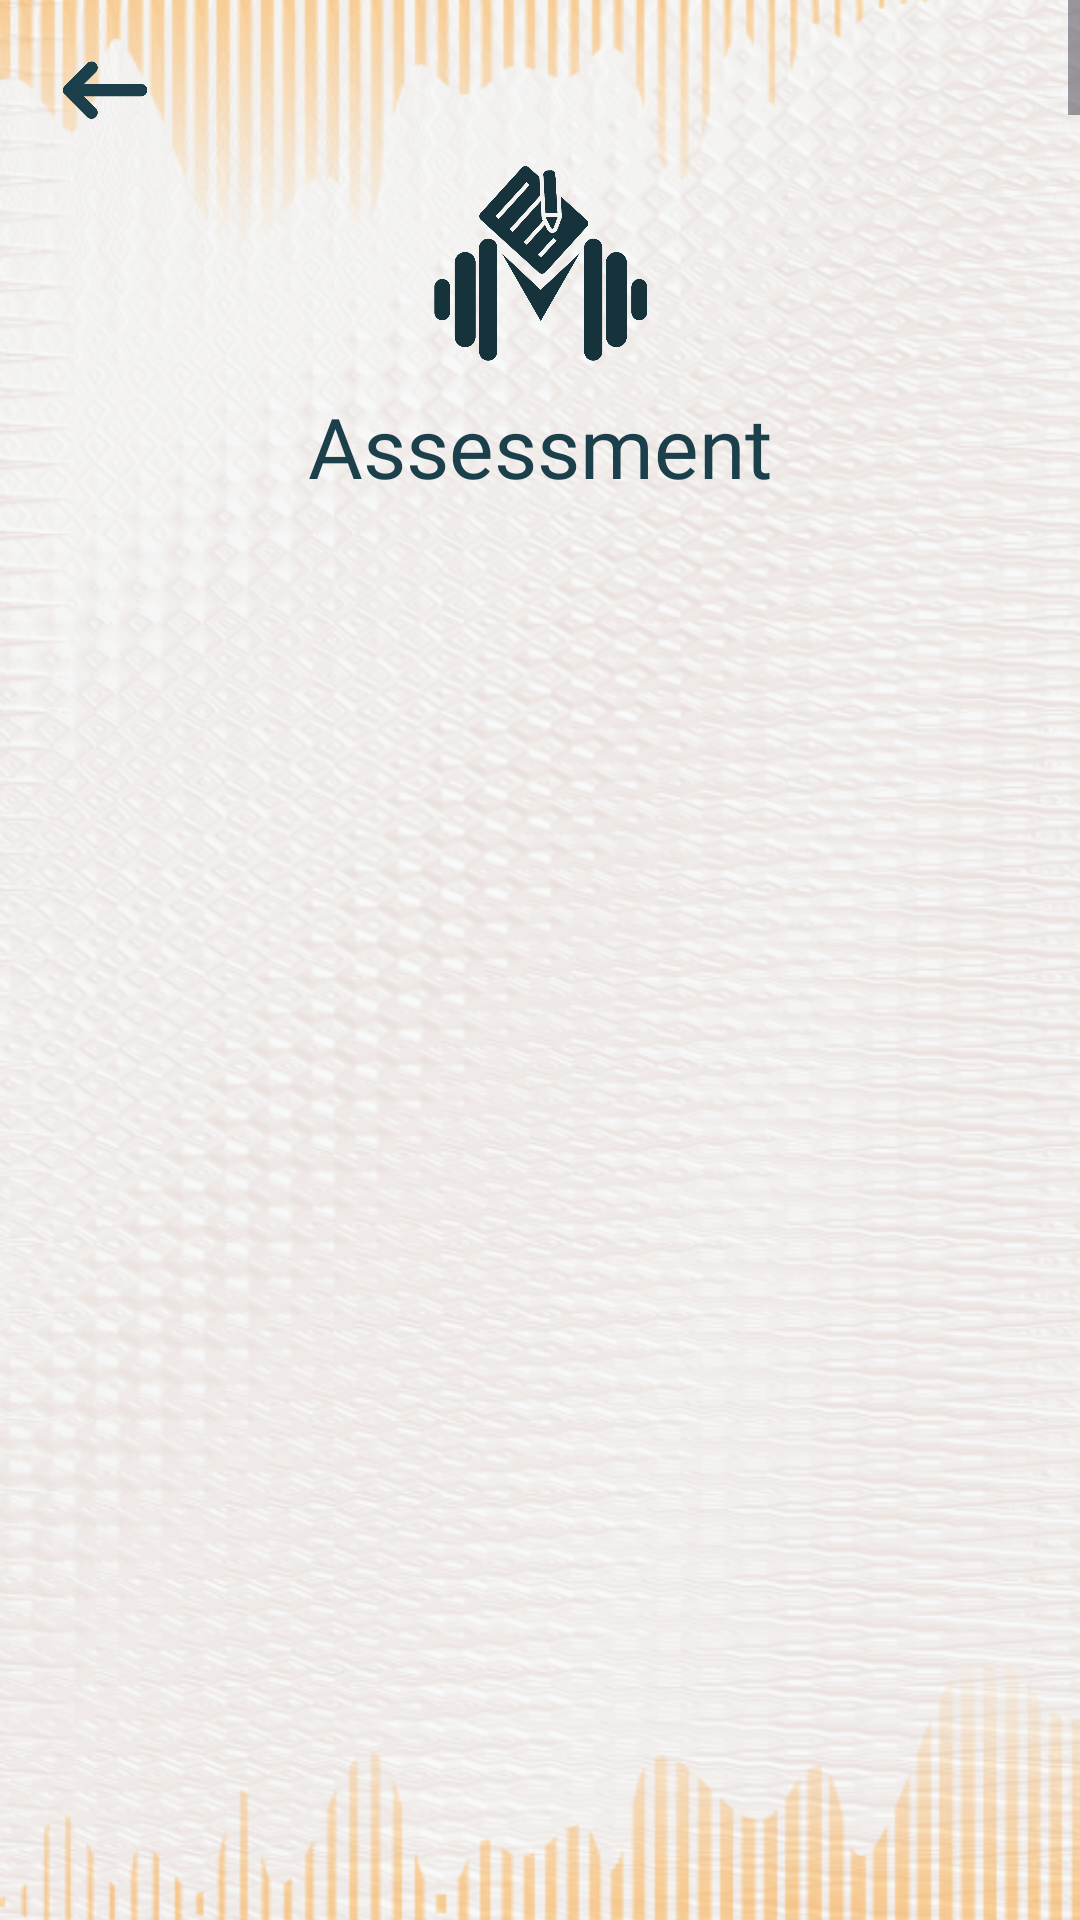

Named icons in this screenshot (1080x1920) and their centers, point (x, y):
back: point (105, 90)
